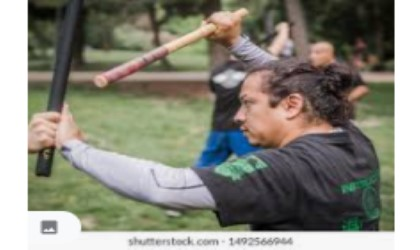baston_e: (39, 11, 87, 105), (125, 22, 193, 83)
baston_v: (84, 67, 119, 95), (29, 158, 55, 186)
